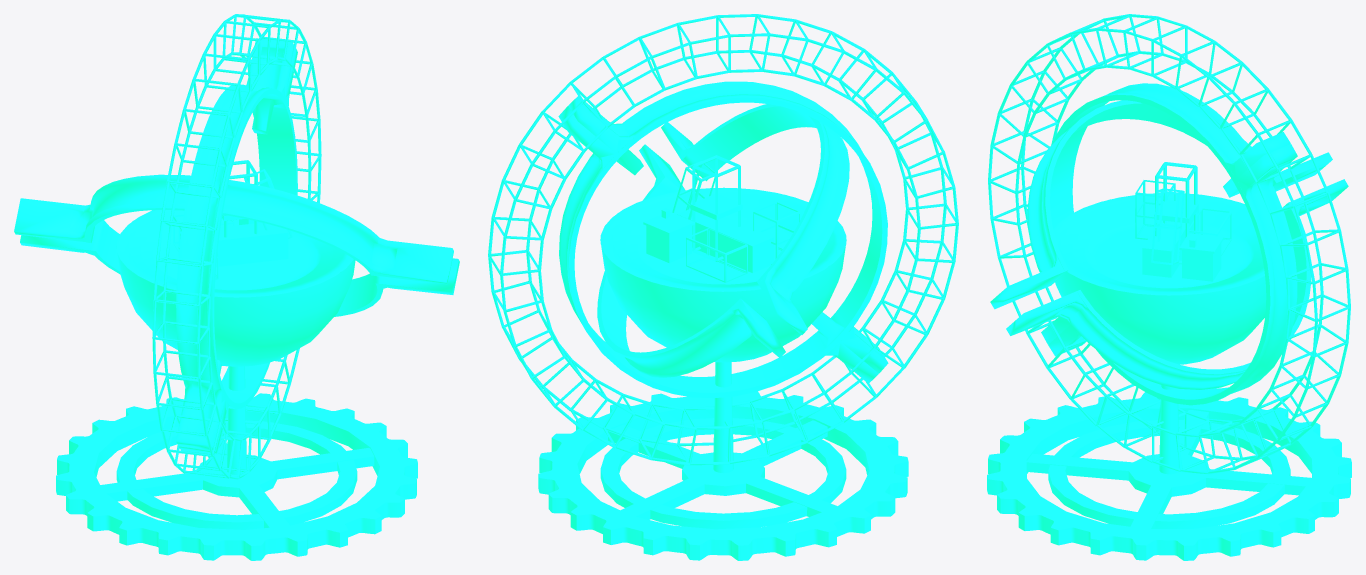
The model's file is ETS3js.glb.
3 renders of one model, left to right at view 1: azimuth 30°, elevation 25°; view 2: azimuth 150°, elevation 25°; view 3: azimuth 270°, elevation 25°, orthographic. The views are drawn at different scales.
Parts seen in each view (by area): view 1: mettal; view 2: mettal; view 3: mettal.
Part boxes in pixels (x1,y1,x2,y2): mettal: [14, 14, 459, 560]; mettal: [488, 14, 958, 560]; mettal: [987, 14, 1351, 560].
Size of the model in its own units: 7.9 by 10.76 by 7.88.
